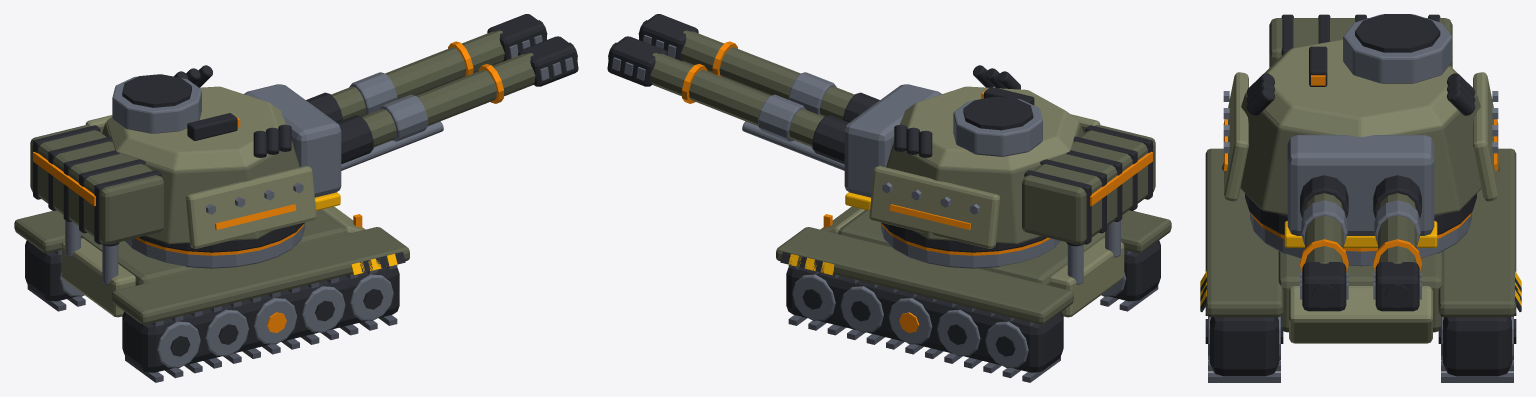
The model's file is torreta_canon.glb.
The picture shows the model from 3 angles, left to right: view 1: azimuth 30°, elevation 25°; view 2: azimuth 150°, elevation 25°; view 3: azimuth 270°, elevation 25°; orthographic projection. The views are drawn at different scales.
Parts seen in each view (by area): view 1: Pivot, Base, Barrel; view 2: Pivot, Base, Barrel; view 3: Pivot, Base, Barrel.
Boxes of the visible parts, <box> form: Pivot: <box>30,65,341,252</box>; Base: <box>14,206,409,382</box>; Barrel: <box>306,14,578,170</box>; Pivot: <box>844,65,1155,252</box>; Base: <box>776,206,1171,382</box>; Barrel: <box>607,14,879,170</box>; Pivot: <box>1222,14,1499,247</box>; Base: <box>1200,148,1521,382</box>; Barrel: <box>1300,175,1421,311</box>.
Size of the model in its own units: 6.16 by 2.57 by 2.9.
Materials: 1 (1 with a texture image).
